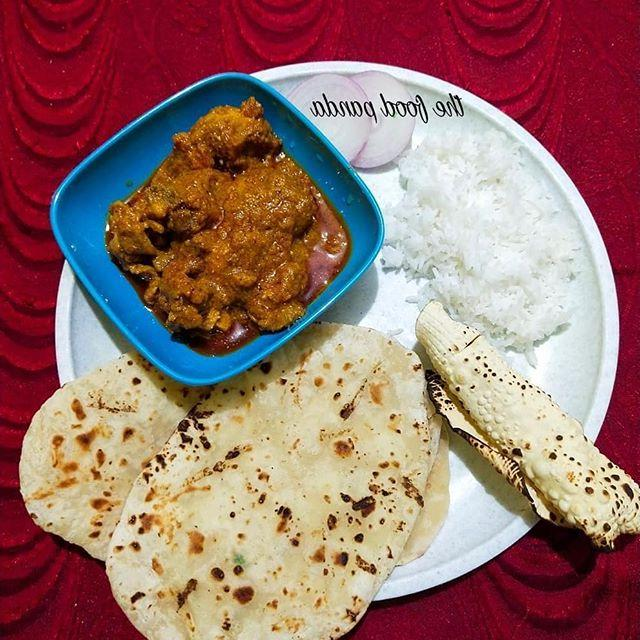Roti: (93, 319, 424, 640), (0, 378, 454, 584)
White Rice: (376, 128, 585, 336)
